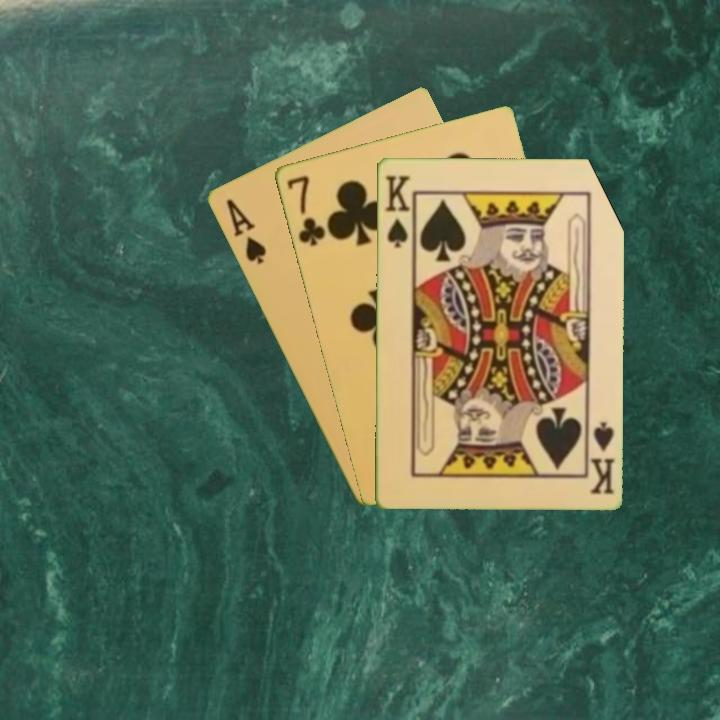7c: (283, 171, 328, 249)
As: (221, 195, 269, 267)
Ks: (584, 415, 617, 496), (381, 171, 414, 250)
